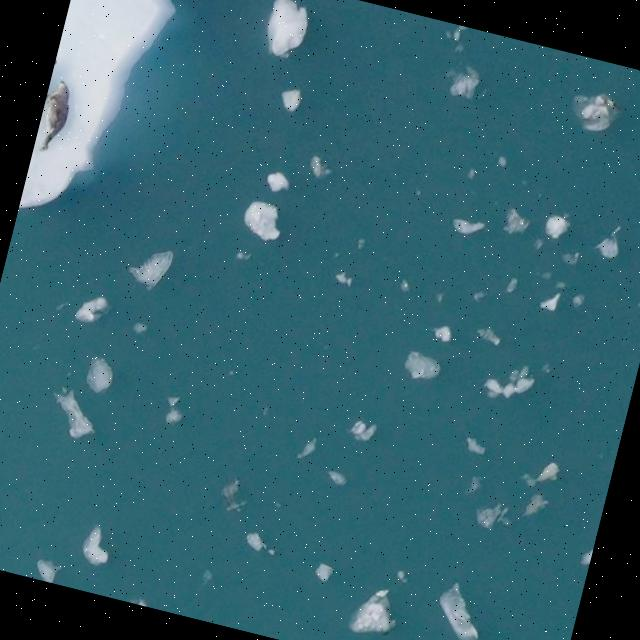seal: (35, 79, 70, 150)
